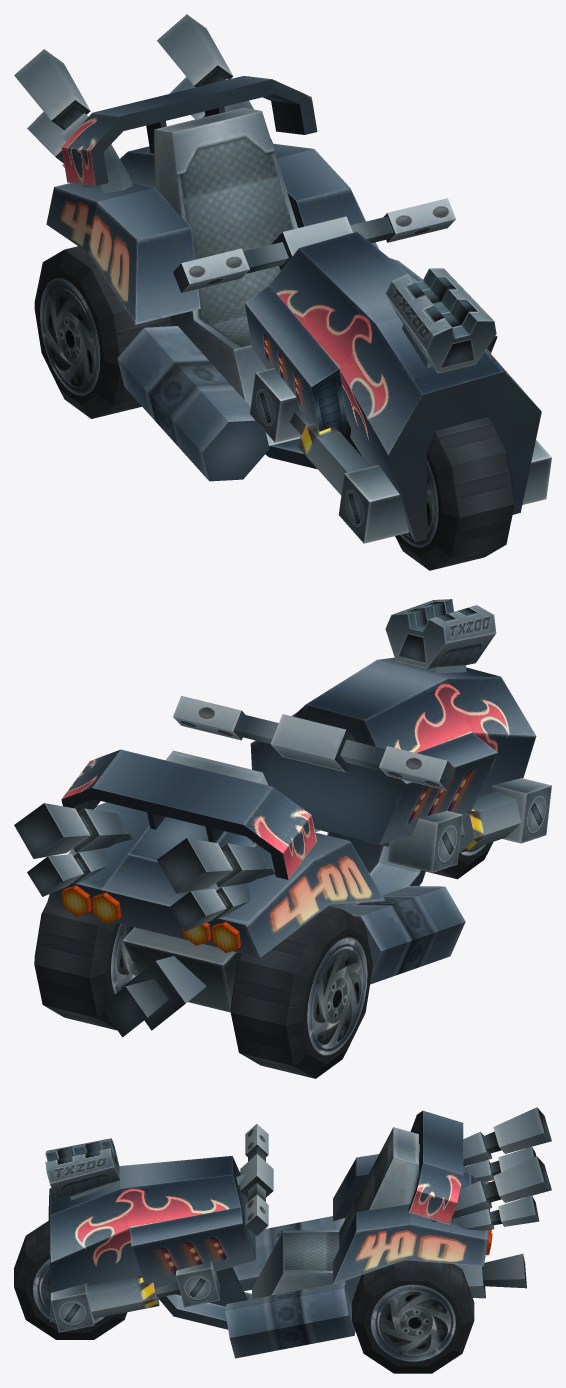
File: Brad_AI.glb
The picture shows the model from 3 angles, top to bottom: view 1: azimuth 30°, elevation 25°; view 2: azimuth 150°, elevation 25°; view 3: azimuth 270°, elevation 25°; orthographic projection. The views are drawn at different scales.
Visible parts, largest first — view 1: kart_brad, right_wheel, front_wheel; view 2: kart_brad, right_wheel, left_wheel, front_wheel; view 3: kart_brad, left_wheel, front_wheel.
Boxes of the visible parts, bbox=[...] form: kart_brad: bbox=[14, 14, 551, 543]; right_wheel: bbox=[34, 246, 173, 418]; front_wheel: bbox=[395, 417, 514, 570]; kart_brad: bbox=[14, 599, 551, 1037]; right_wheel: bbox=[230, 906, 372, 1078]; left_wheel: bbox=[34, 903, 138, 1030]; front_wheel: bbox=[426, 842, 493, 879]; kart_brad: bbox=[45, 1107, 551, 1358]; left_wheel: bbox=[352, 1260, 474, 1373]; front_wheel: bbox=[14, 1220, 127, 1339].
Size of the model in its own units: 1.89 by 1.91 by 4.67.
Materials: 1 (1 with a texture image).
